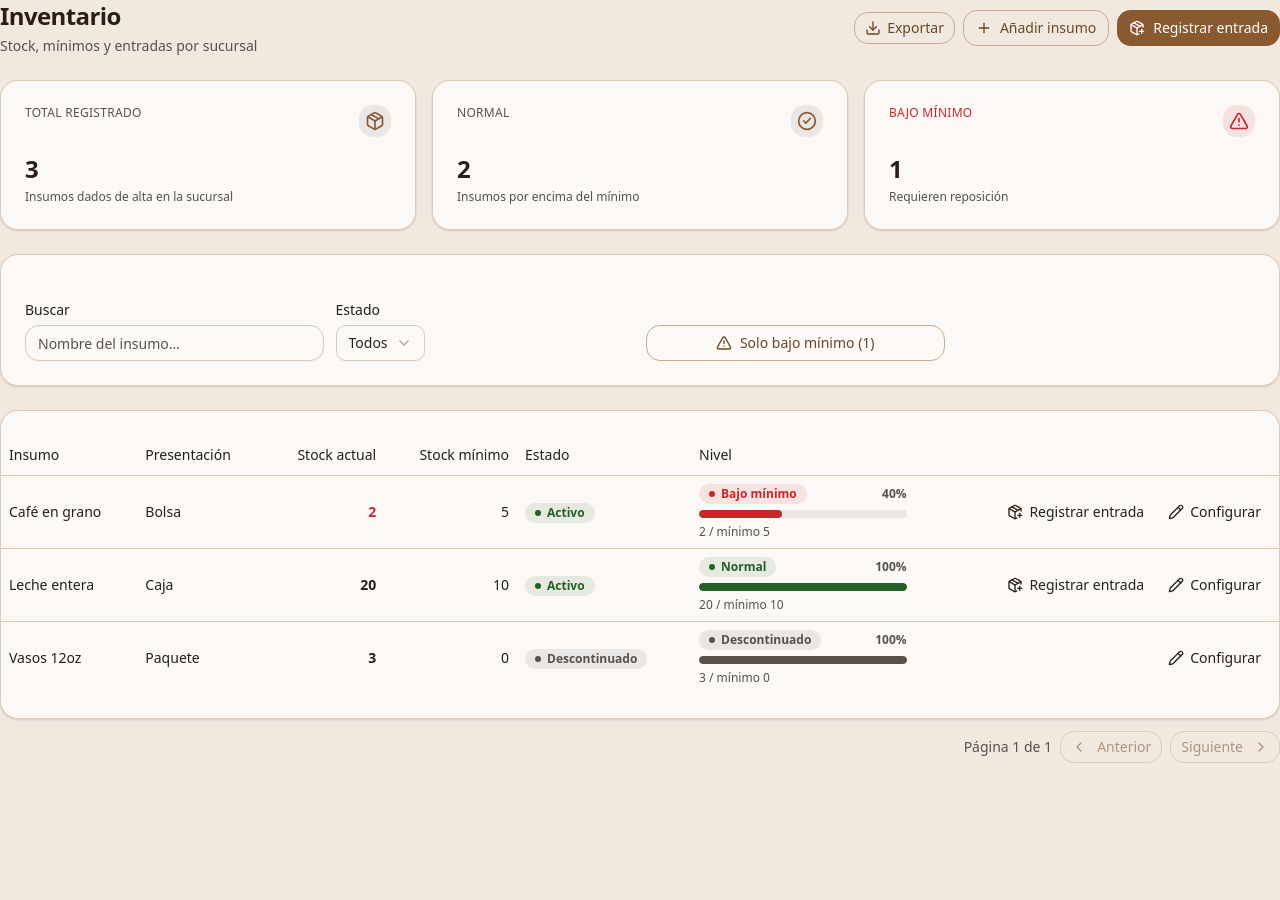
entrada de stock y coherencia de estados › una entrada que supera el mínimo deja el insumo Normal y cierra la alerta
This screenshot has width=1280, height=900.
expect the text "Bajo mínimo" is shown: met, box x1=699 y1=484 x2=807 y2=504
expect the button "Solo bajo mínimo (1)" is shown: met, box x1=646 y1=325 x2=944 y2=361
Click the button "Registrar entrada" in the row of "Café en grano".
click(1076, 512)  # box x1=997 y1=496 x2=1154 y2=528
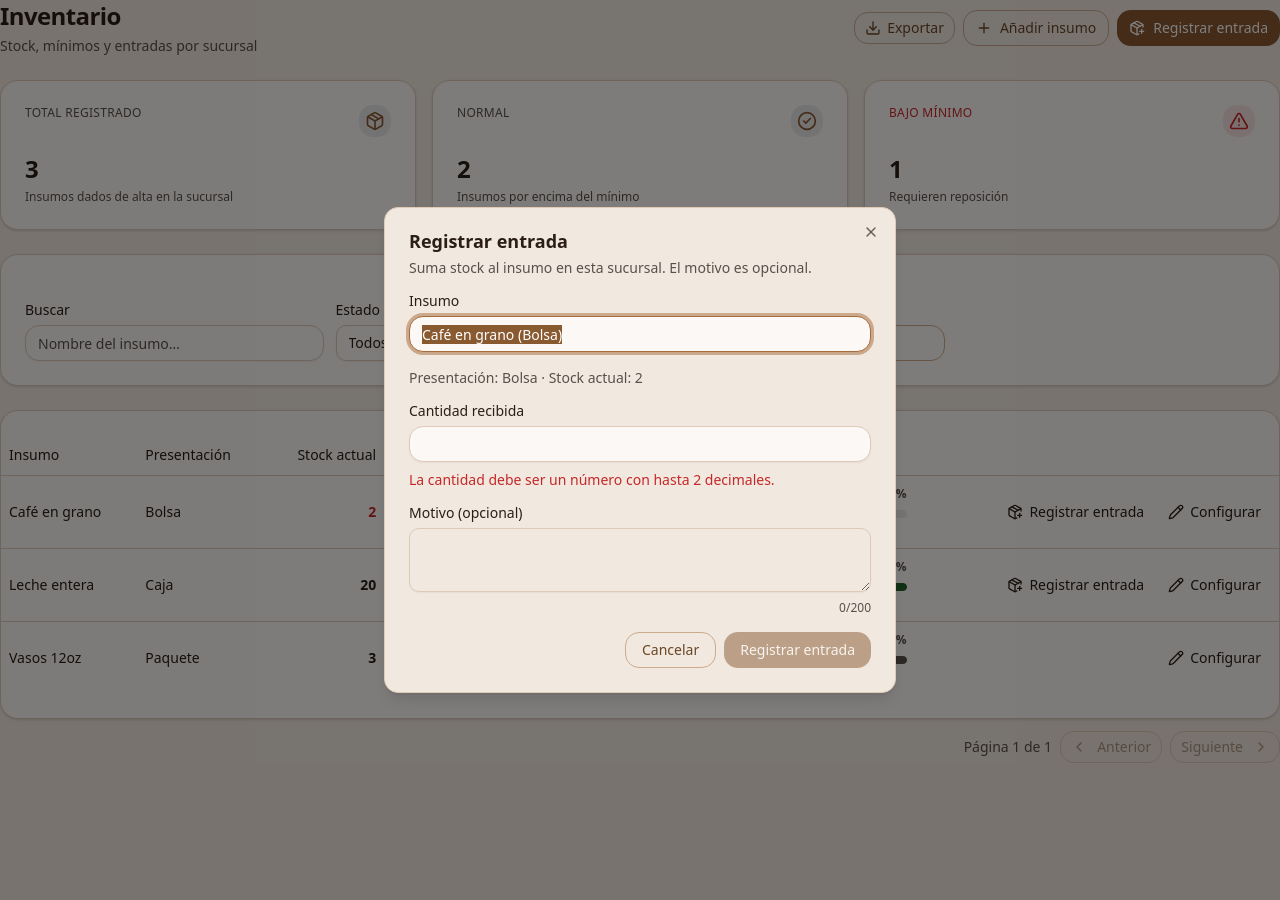
Type "5" into the field labelled "Cantidad recibida".
click(640, 444); type("5")  # box x1=409 y1=426 x2=871 y2=462
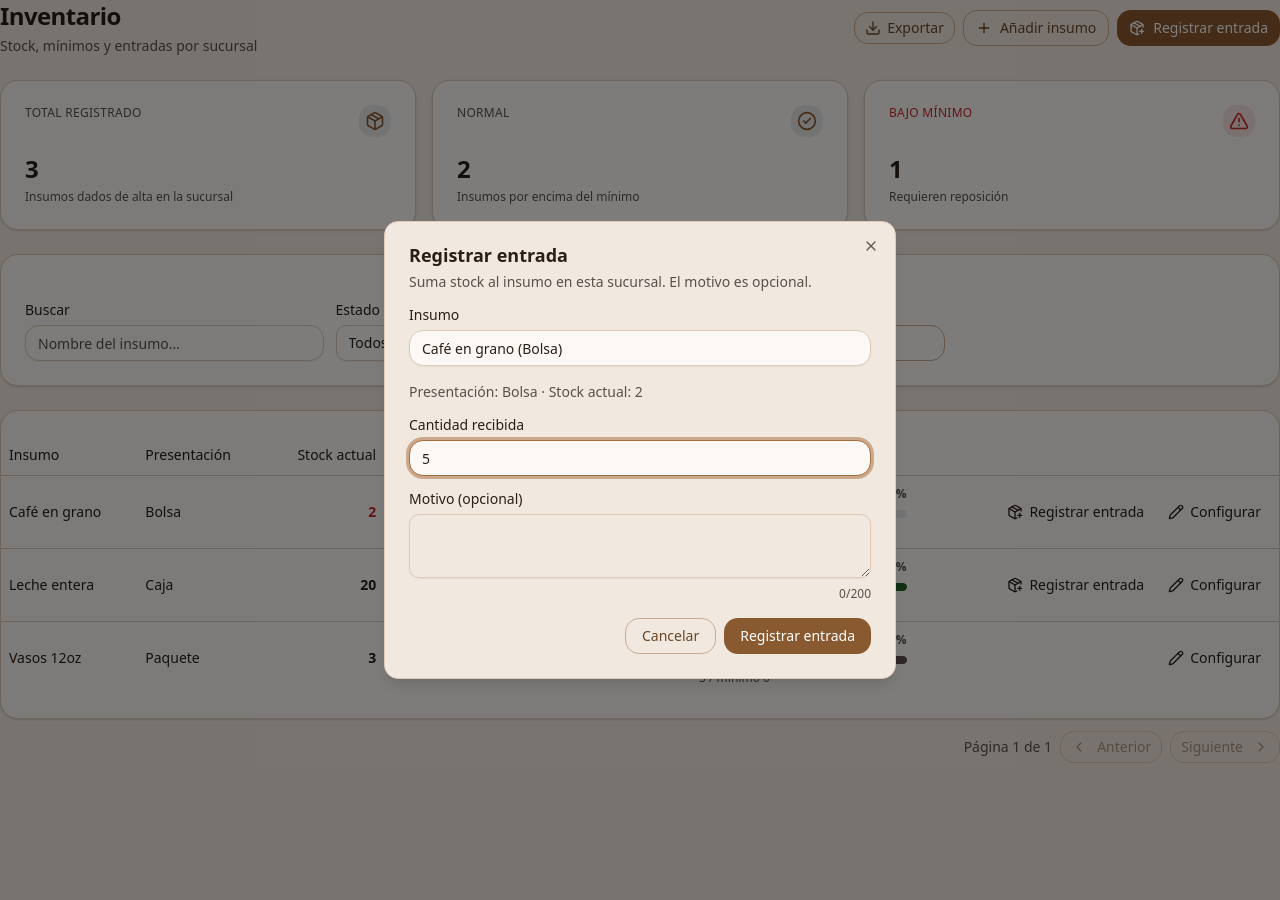
Click the button "Registrar entrada".
click(798, 636)  # box x1=724 y1=618 x2=871 y2=654
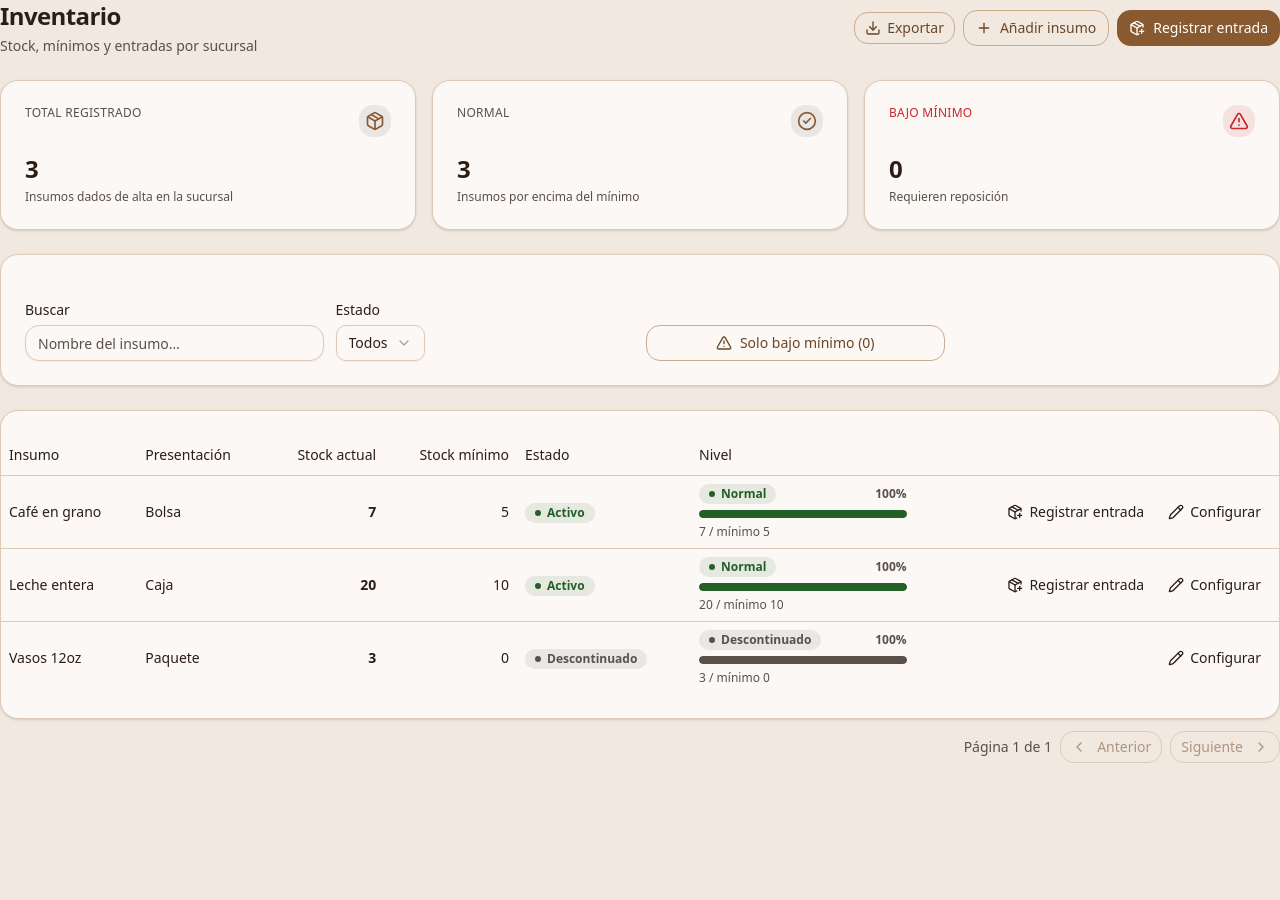
expect the text "Normal" is shown: met, box x1=699 y1=484 x2=776 y2=504
expect the button "Solo bajo mínimo (0)" is shown: met, box x1=646 y1=325 x2=944 y2=361
